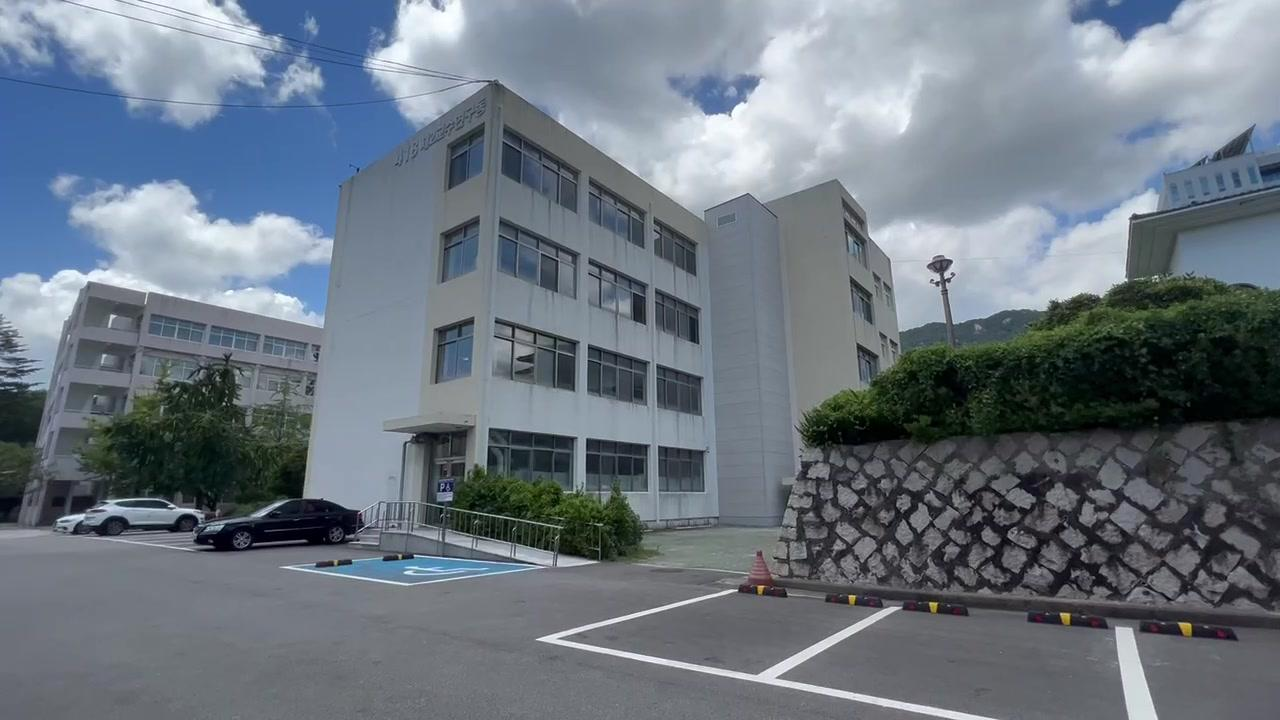building: (325, 106, 915, 415)
